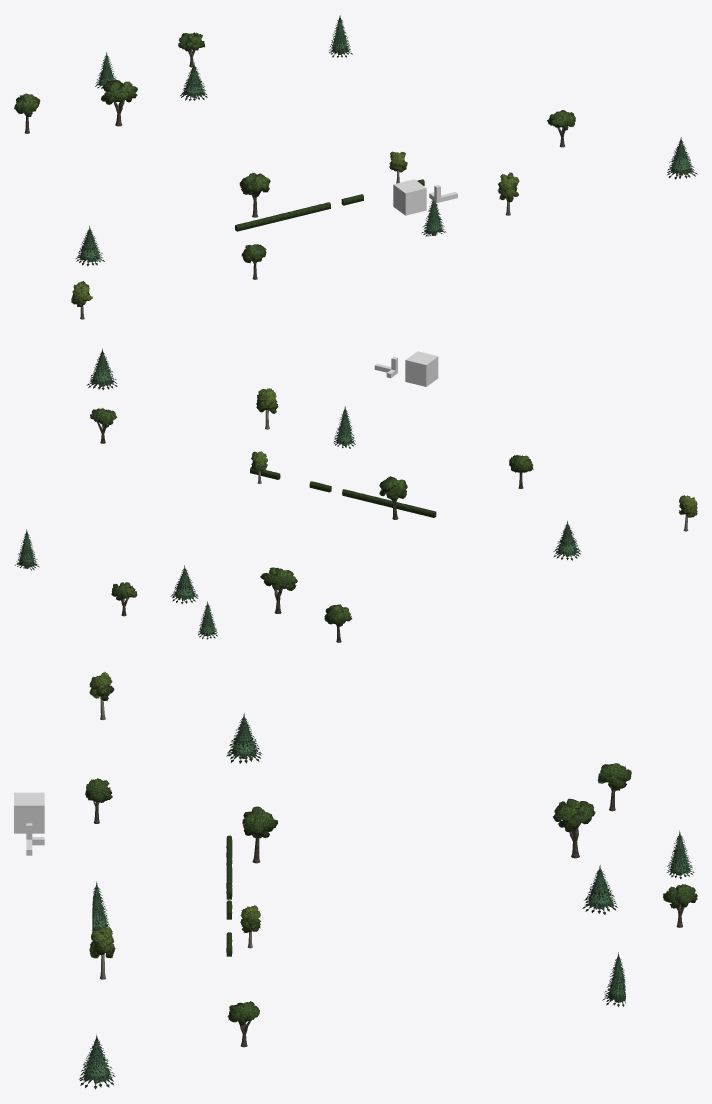
File: H_Trees.fbx
3 views of the same model, one above another, from view 1: azimuth 30°, elevation 25°; view 2: azimuth 150°, elevation 25°; view 3: azimuth 270°, elevation 25° (orthographic). The views are drawn at different scales.
Visible parts, largest first — view 1: K_ScaleCube, Hedge_Front, Tree_03_Crown, Tree_13_Crown, Tree_08_Crown, Tree_01_Crown, Tree_04_Crown, Tree_11_Crown, Tree_07_Crown, Tree_06_Crown; view 2: Hedge_Front, K_ScaleCube, Tree_13_Crown, Tree_03_Crown, Tree_08_Crown, Tree_04_Crown, Tree_01_Crown, Tree_06_Crown, Tree_11_Crown; view 3: K_ScaleCube, Tree_13_Crown, Tree_03_Crown, Tree_08_Crown, Tree_04_Crown, Tree_01_Crown, Hedge_Front, Tree_11_Crown, Tree_10_Crown, Tree_14_Crown, Tree_07_Crown.
Boxes of the visible parts, <box> form: K_ScaleCube: <box>393,179,426,215</box>; Hedge_Front: <box>235,179,424,231</box>; Tree_03_Crown: <box>101,79,137,104</box>; Tree_13_Crown: <box>667,137,697,179</box>; Tree_08_Crown: <box>75,226,104,266</box>; Tree_01_Crown: <box>239,172,270,197</box>; Tree_04_Crown: <box>180,62,207,100</box>; Tree_11_Crown: <box>329,15,352,57</box>; Tree_07_Crown: <box>497,172,519,202</box>; Tree_06_Crown: <box>421,200,446,236</box>; Hedge_Front: <box>250,466,436,517</box>; K_ScaleCube: <box>405,351,438,386</box>; Tree_13_Crown: <box>86,348,117,390</box>; Tree_03_Crown: <box>260,567,297,590</box>; Tree_08_Crown: <box>553,521,581,560</box>; Tree_04_Crown: <box>170,565,198,603</box>; Tree_01_Crown: <box>379,476,407,500</box>; Tree_06_Crown: <box>333,406,355,448</box>; Tree_11_Crown: <box>14,529,39,570</box>; K_ScaleCube: <box>14,792,44,833</box>; Tree_13_Crown: <box>79,1034,115,1089</box>; Tree_03_Crown: <box>553,798,595,832</box>; Tree_08_Crown: <box>226,713,261,763</box>; Tree_04_Crown: <box>582,865,617,914</box>; Tree_01_Crown: <box>242,806,277,838</box>; Hedge_Front: <box>226,835,232,956</box>; Tree_11_Crown: <box>602,952,625,1006</box>; Tree_10_Crown: <box>597,763,631,790</box>; Tree_14_Crown: <box>667,830,694,878</box>; Tree_07_Crown: <box>89,927,115,958</box>.
Size of the model in its own units: 29181 by 3643 by 22291.
2 materials, 1 textured.
